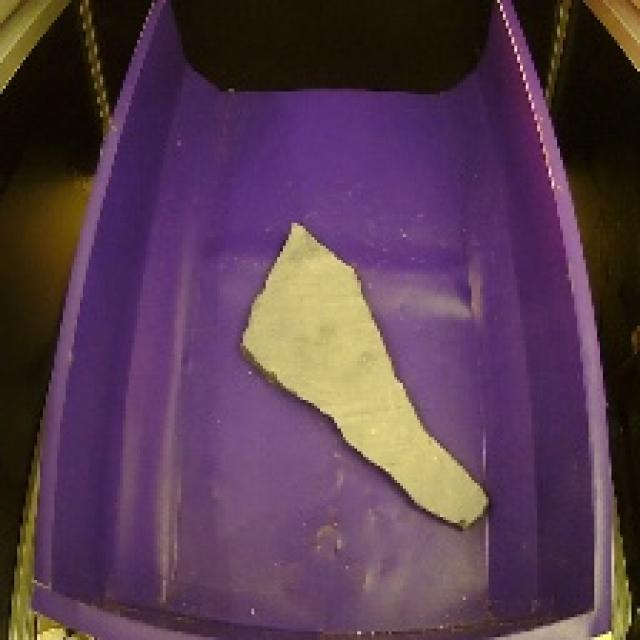china: (221, 211, 502, 540)
